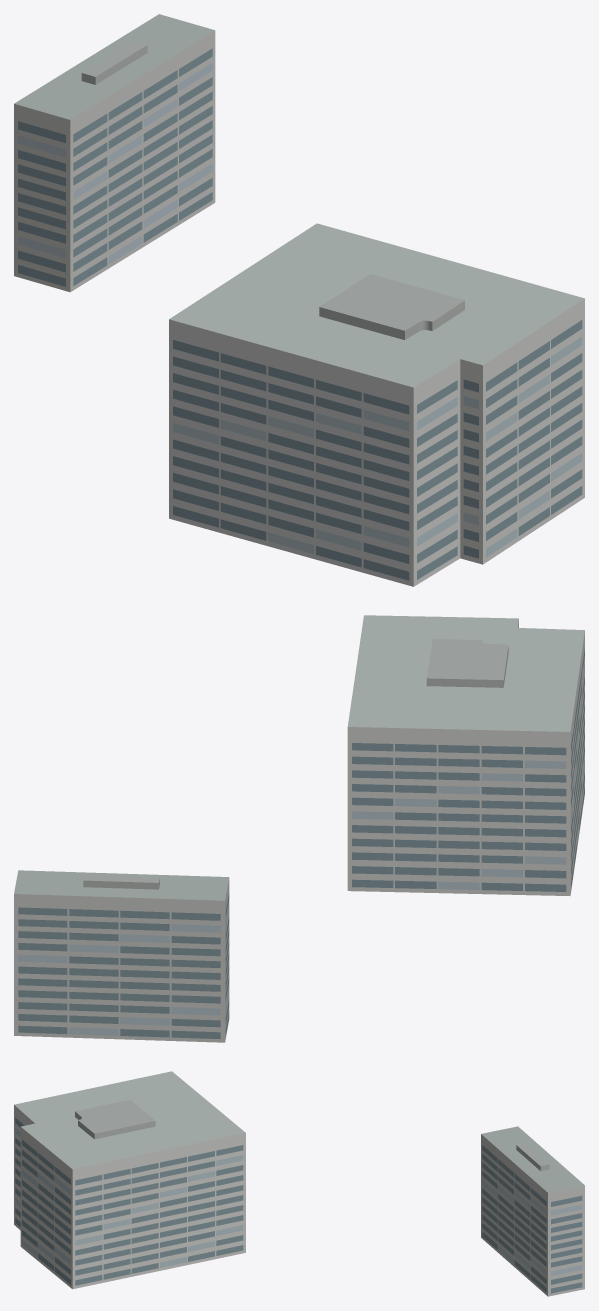
File: apt-a13770801.glb
3 renders of one model, top to bottom at view 1: azimuth 30°, elevation 25°; view 2: azimuth 150°, elevation 25°; view 3: azimuth 270°, elevation 25°, orthographic. The views are drawn at different scales.
Visible parts, largest first — view 1: apt-a13770801; view 2: apt-a13770801; view 3: apt-a13770801.
Boxes of the visible parts, box(x1,y1,x2,y2) form: apt-a13770801: box(14, 14, 584, 586); apt-a13770801: box(14, 615, 584, 1042); apt-a13770801: box(14, 1071, 584, 1296).
Size of the model in its own units: 66.51 by 37 by 152.
